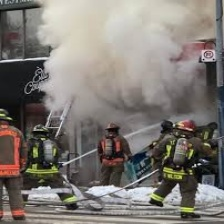smoke: (33, 1, 212, 131)
